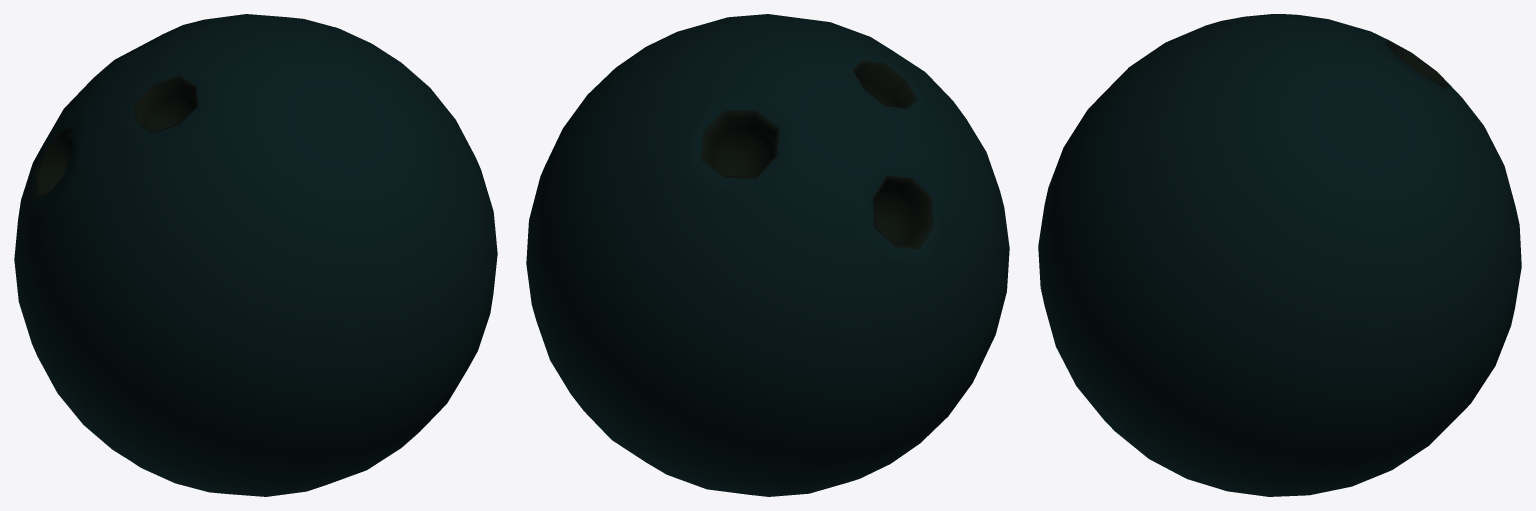
File: Ball.fbx
The picture shows the model from 3 angles, left to right: view 1: azimuth 30°, elevation 25°; view 2: azimuth 150°, elevation 25°; view 3: azimuth 270°, elevation 25°; orthographic projection.
Visible parts, largest first — view 1: Bowling_ball012; view 2: Bowling_ball012; view 3: Bowling_ball012.
Part boxes in pixels (x1,y1,x2,y2): Bowling_ball012: (14, 14, 497, 496); Bowling_ball012: (526, 14, 1009, 496); Bowling_ball012: (1038, 14, 1521, 496).
Size of the model in its own units: 17.3 by 17.28 by 17.28.
